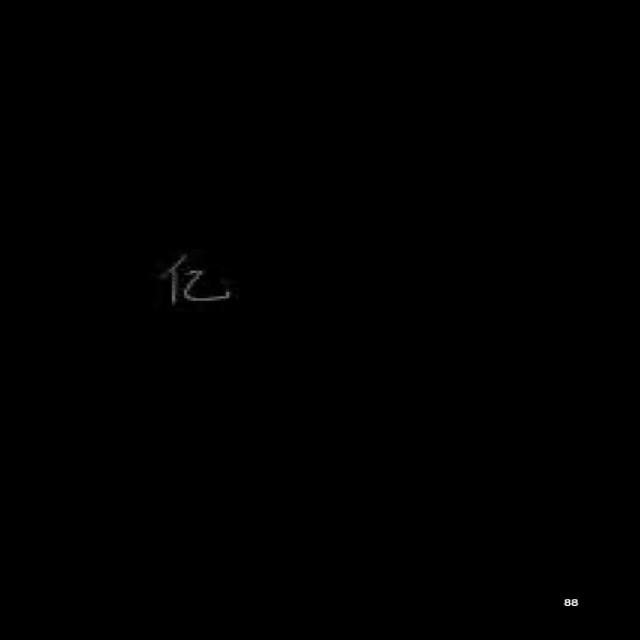100000 -a hundred thousand-: (157, 252, 235, 308)
